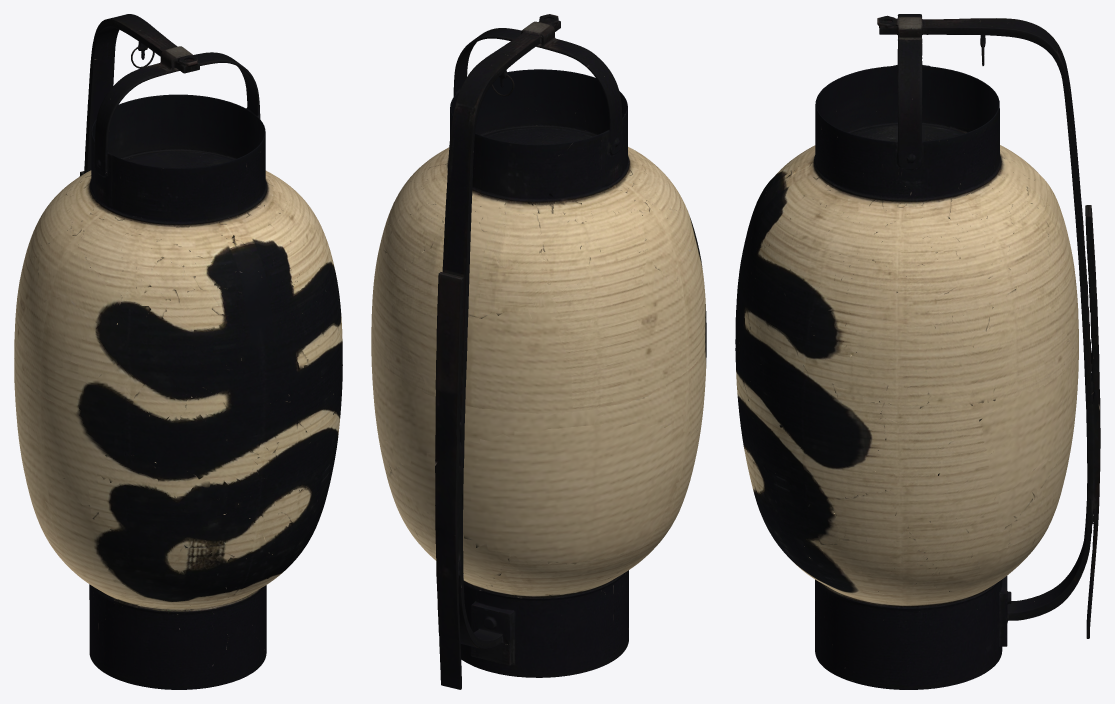
File: lantern.glb
3 renders of one model, left to right at view 1: azimuth 30°, elevation 25°; view 2: azimuth 150°, elevation 25°; view 3: azimuth 270°, elevation 25°, orthographic. The views are drawn at different scales.
Parts seen in each view (by area): view 1: Mesh_0; view 2: Mesh_0; view 3: Mesh_0.
Boxes of the visible parts, <box> form: Mesh_0: <box>14,14,342,689</box>; Mesh_0: <box>371,14,706,689</box>; Mesh_0: <box>735,14,1100,689</box>.
Bounding box in the file's own units: 0.9231 × 1.86 × 0.9766.
Materials: 1 (1 with a texture image).
